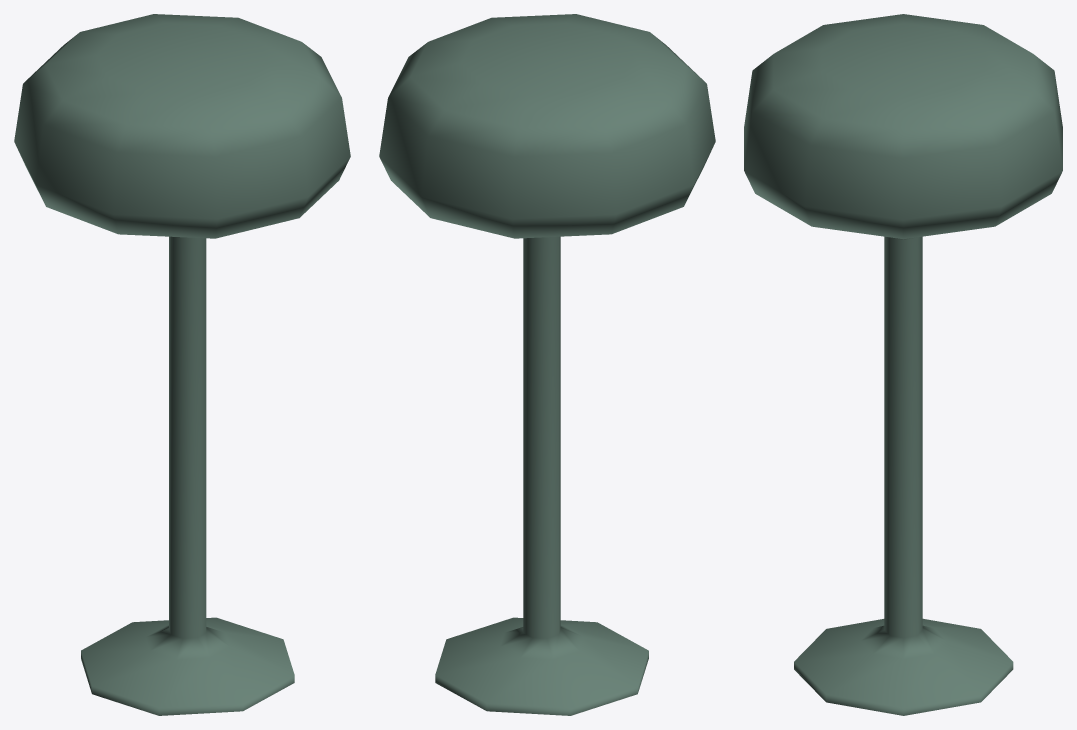
Rendered from stool.fbx.
3 renders of one model, left to right at view 1: azimuth 30°, elevation 25°; view 2: azimuth 150°, elevation 25°; view 3: azimuth 270°, elevation 25°, orthographic.
Parts seen in each view (by area): view 1: stool; view 2: stool; view 3: stool.
Part boxes in pixels (x1=…): stool: x1=14, y1=14, x2=350, y2=715; stool: x1=379, y1=14, x2=715, y2=715; stool: x1=744, y1=14, x2=1062, y2=715.
Size of the model in its own units: 0.3522 by 0.706 by 0.3349.
